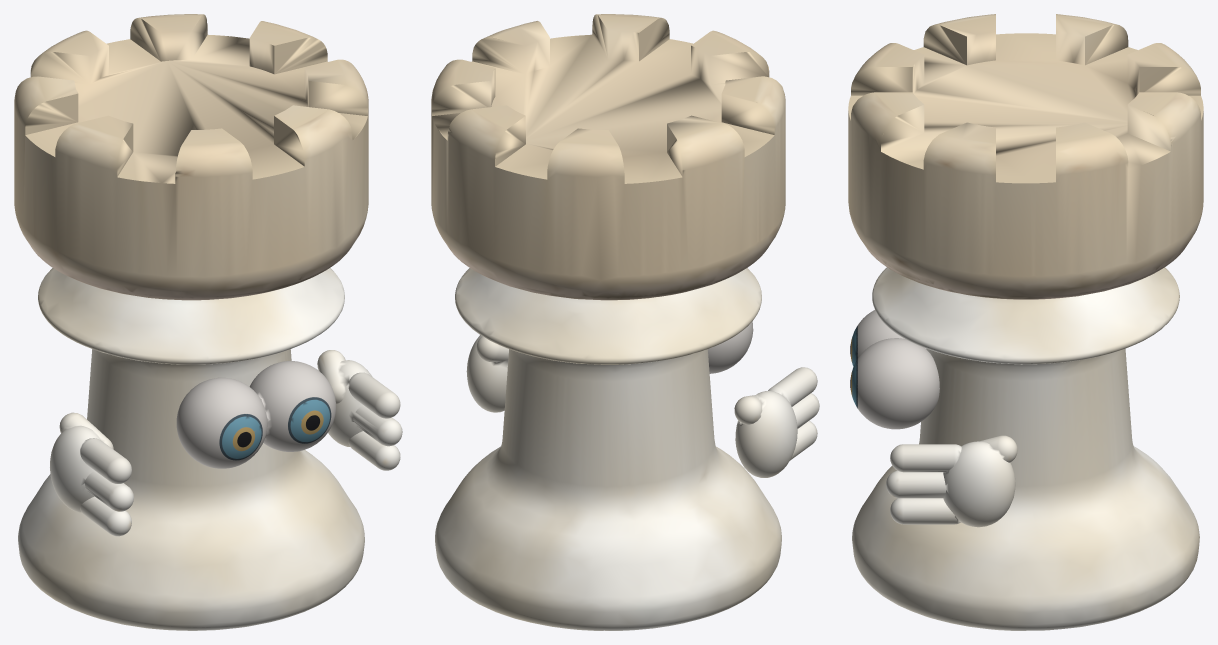
The model's file is rook-light.glb.
The picture shows the model from 3 angles, left to right: view 1: azimuth 30°, elevation 25°; view 2: azimuth 150°, elevation 25°; view 3: azimuth 270°, elevation 25°; orthographic projection.
Visible parts, largest first — view 1: body, hand, eye; view 2: body, hand, eye; view 3: body, hand, eye.
Part boxes in pixels (bbox=[...]): body: bbox=[14, 14, 368, 630]; hand: bbox=[50, 350, 402, 536]; eye: bbox=[176, 361, 335, 468]; body: bbox=[431, 14, 785, 630]; hand: bbox=[466, 335, 819, 477]; eye: bbox=[708, 321, 753, 373]; body: bbox=[848, 14, 1203, 630]; hand: bbox=[886, 435, 1017, 527]; eye: bbox=[850, 310, 939, 429].
Bounding box in the file's own units: 2.32 × 3.39 × 2.24.
